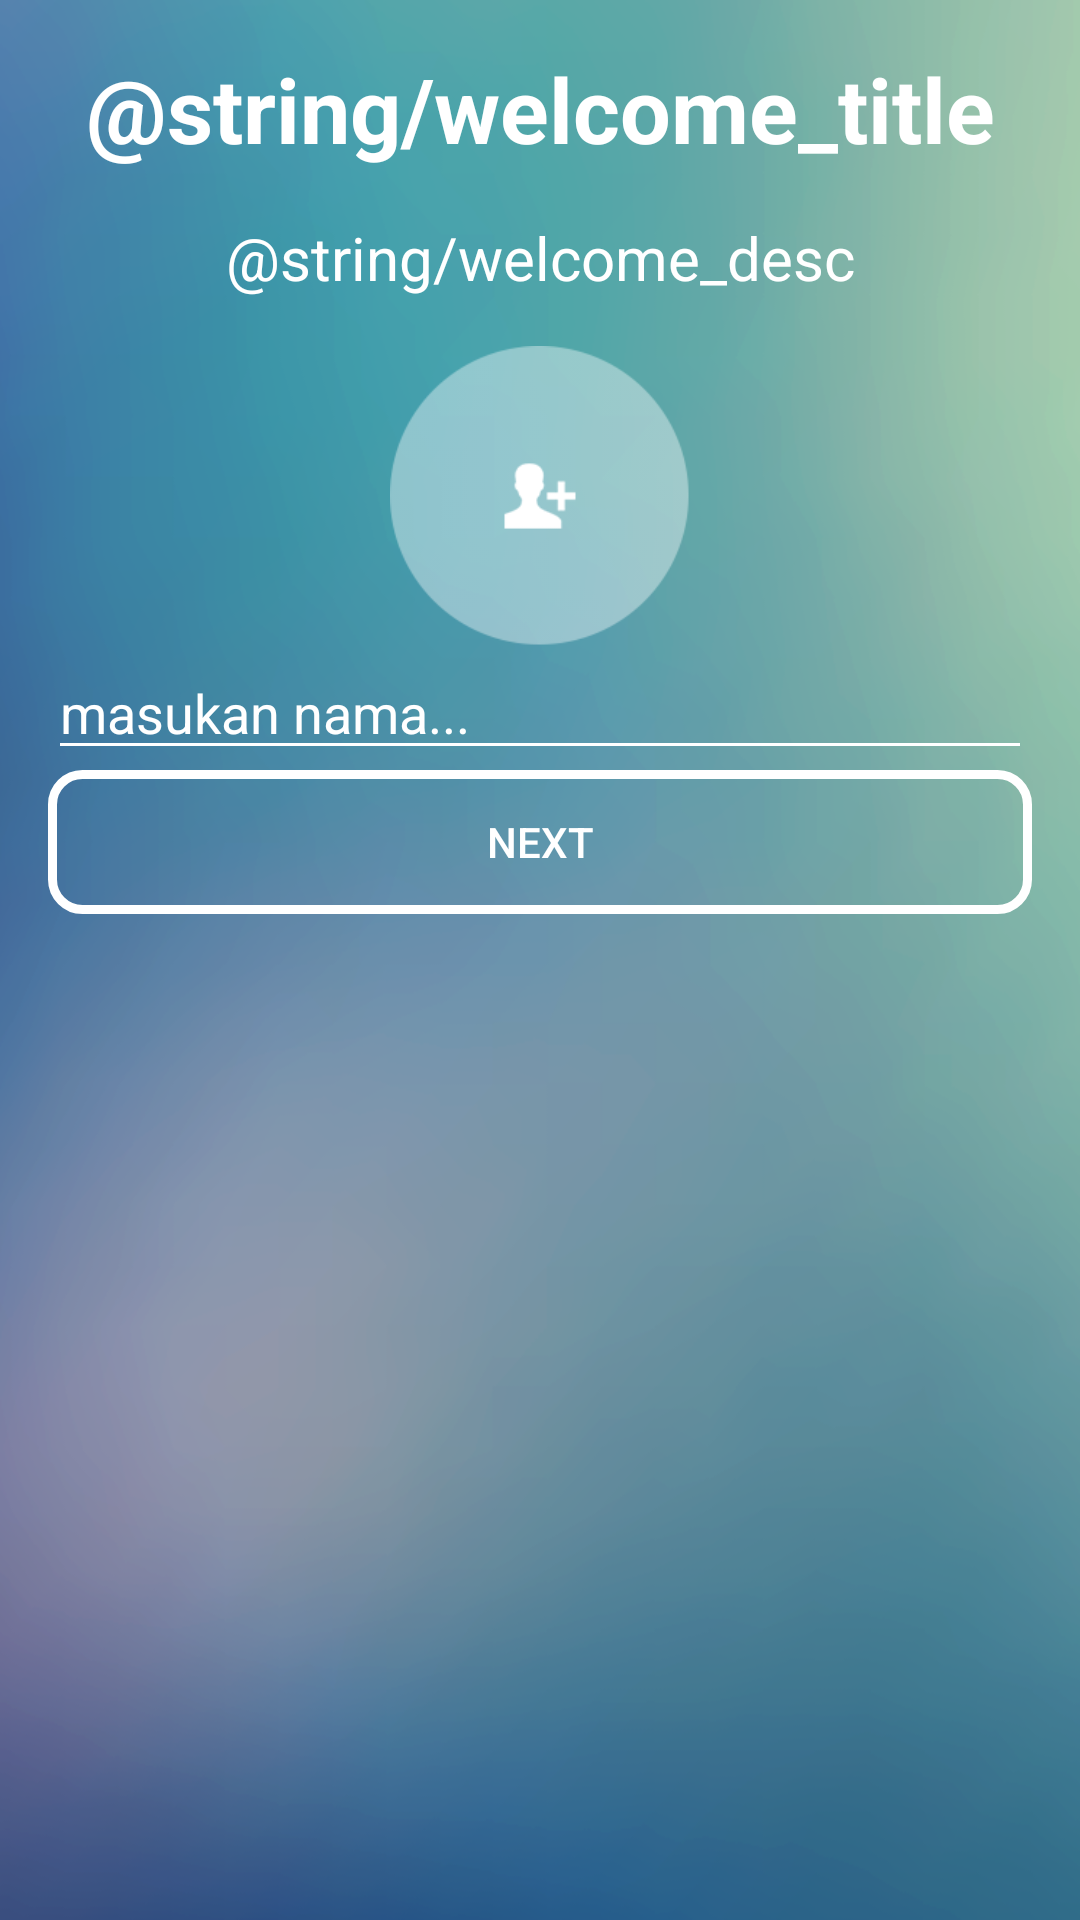

Named icons in this screenshot (1080px×1920px) and their centers, point (x, y):
add photo: point (539, 496)
